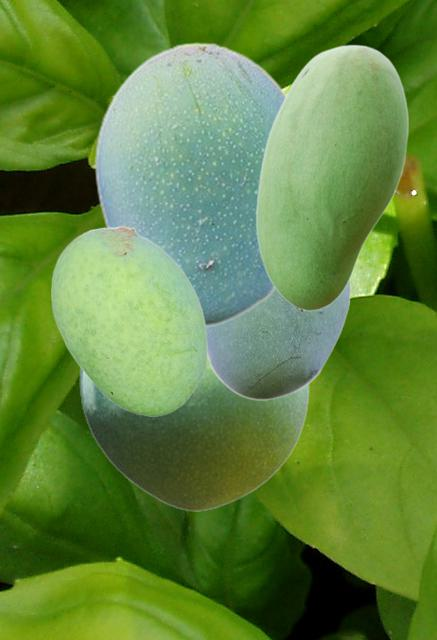green_mango: (93, 41, 285, 327), (255, 44, 407, 310), (79, 359, 308, 510), (51, 225, 206, 415), (207, 281, 350, 399)
